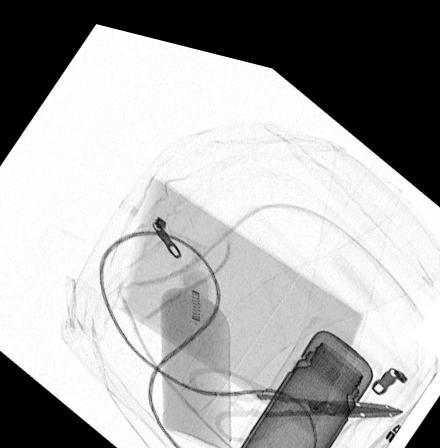Scissors: (185, 353, 403, 433)
